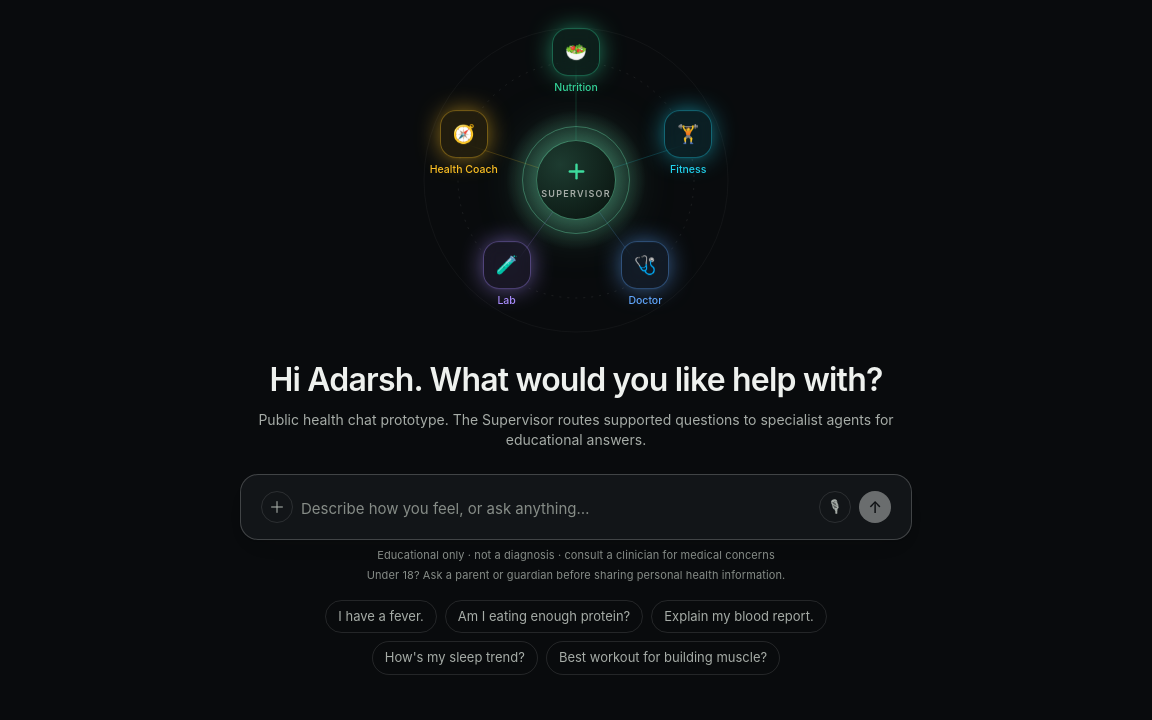
Test: the empty screen › offers openers, and one of them starts the conversation
Click the button "Am I eating enough protein?". click: (544, 617)
box: [445, 600, 643, 633]
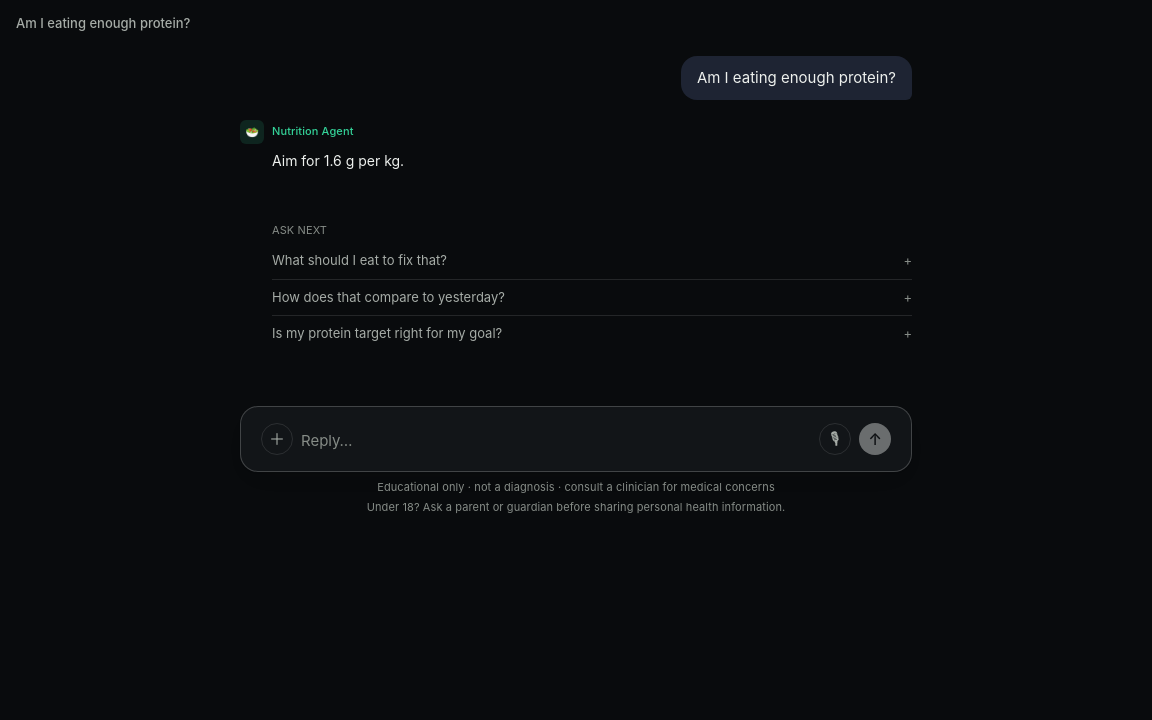
expect the 2nd text "Am I eating enough protein?" is shown: met, box [697, 66, 896, 90]
